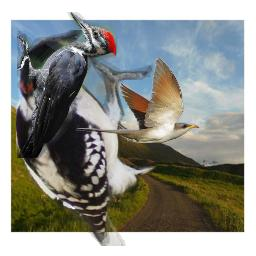Cuckoo: (76, 58, 199, 143)
Woodpecker: (16, 30, 157, 246), (17, 12, 117, 158)
